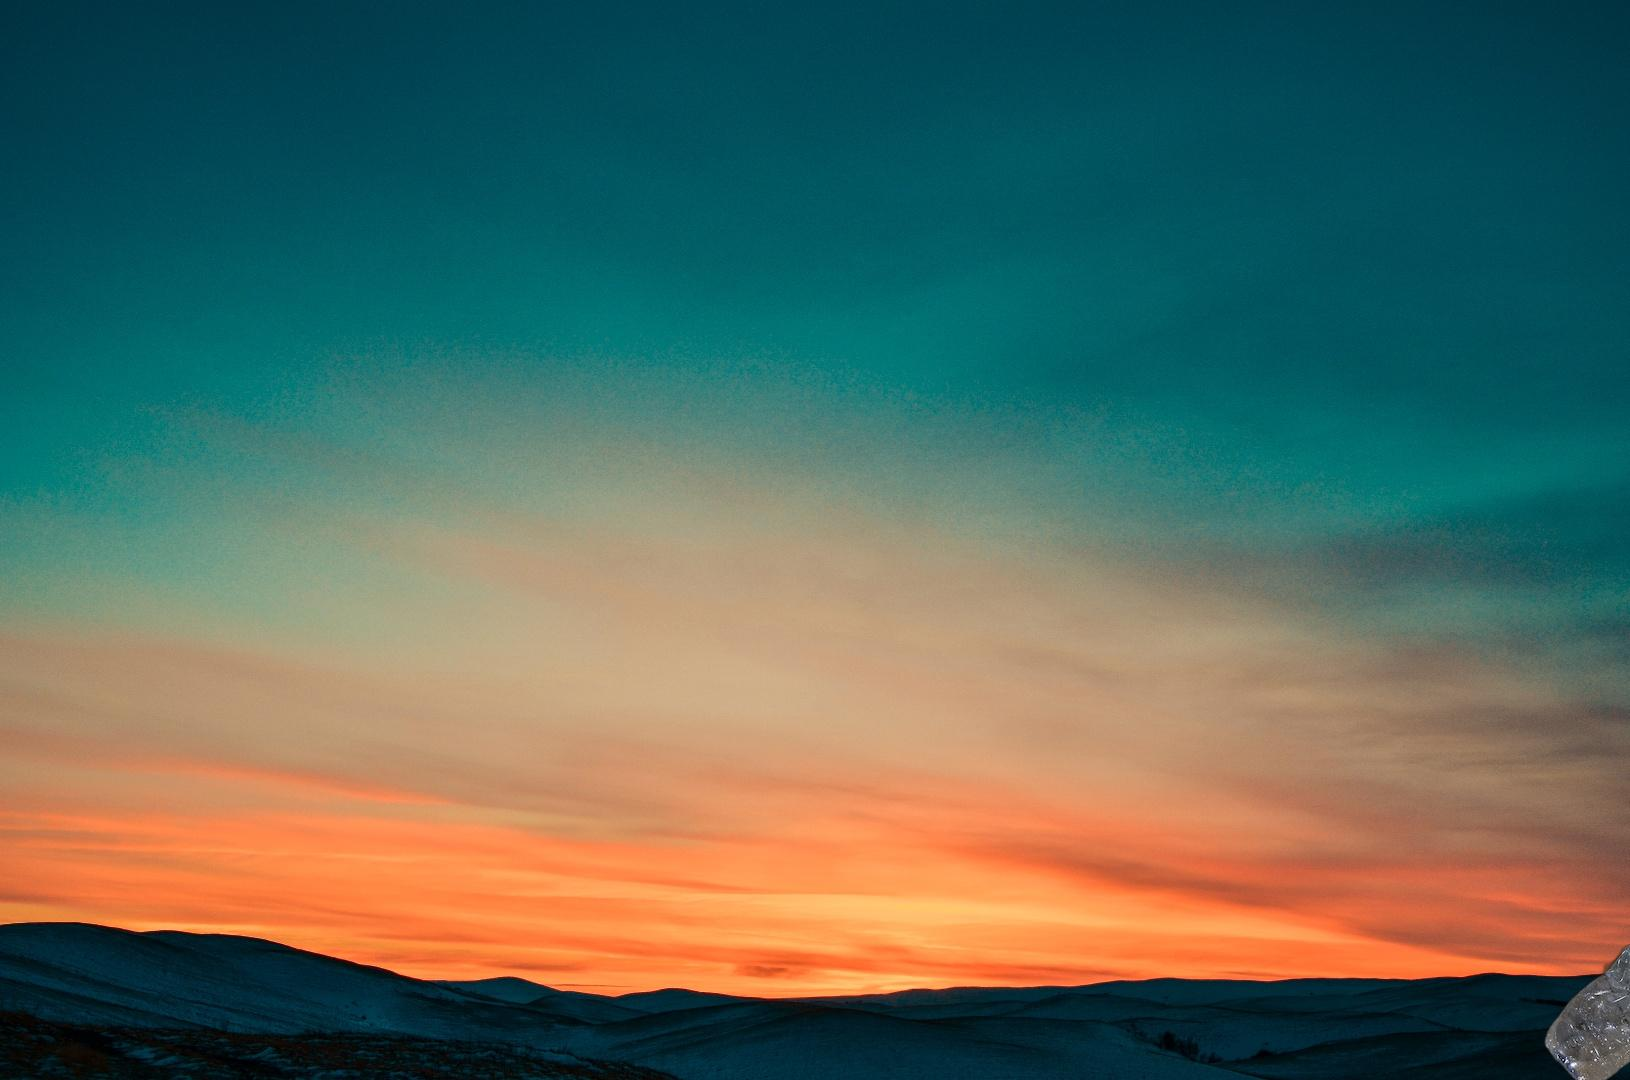plastic-bottles: (1540, 923, 1630, 1080)
